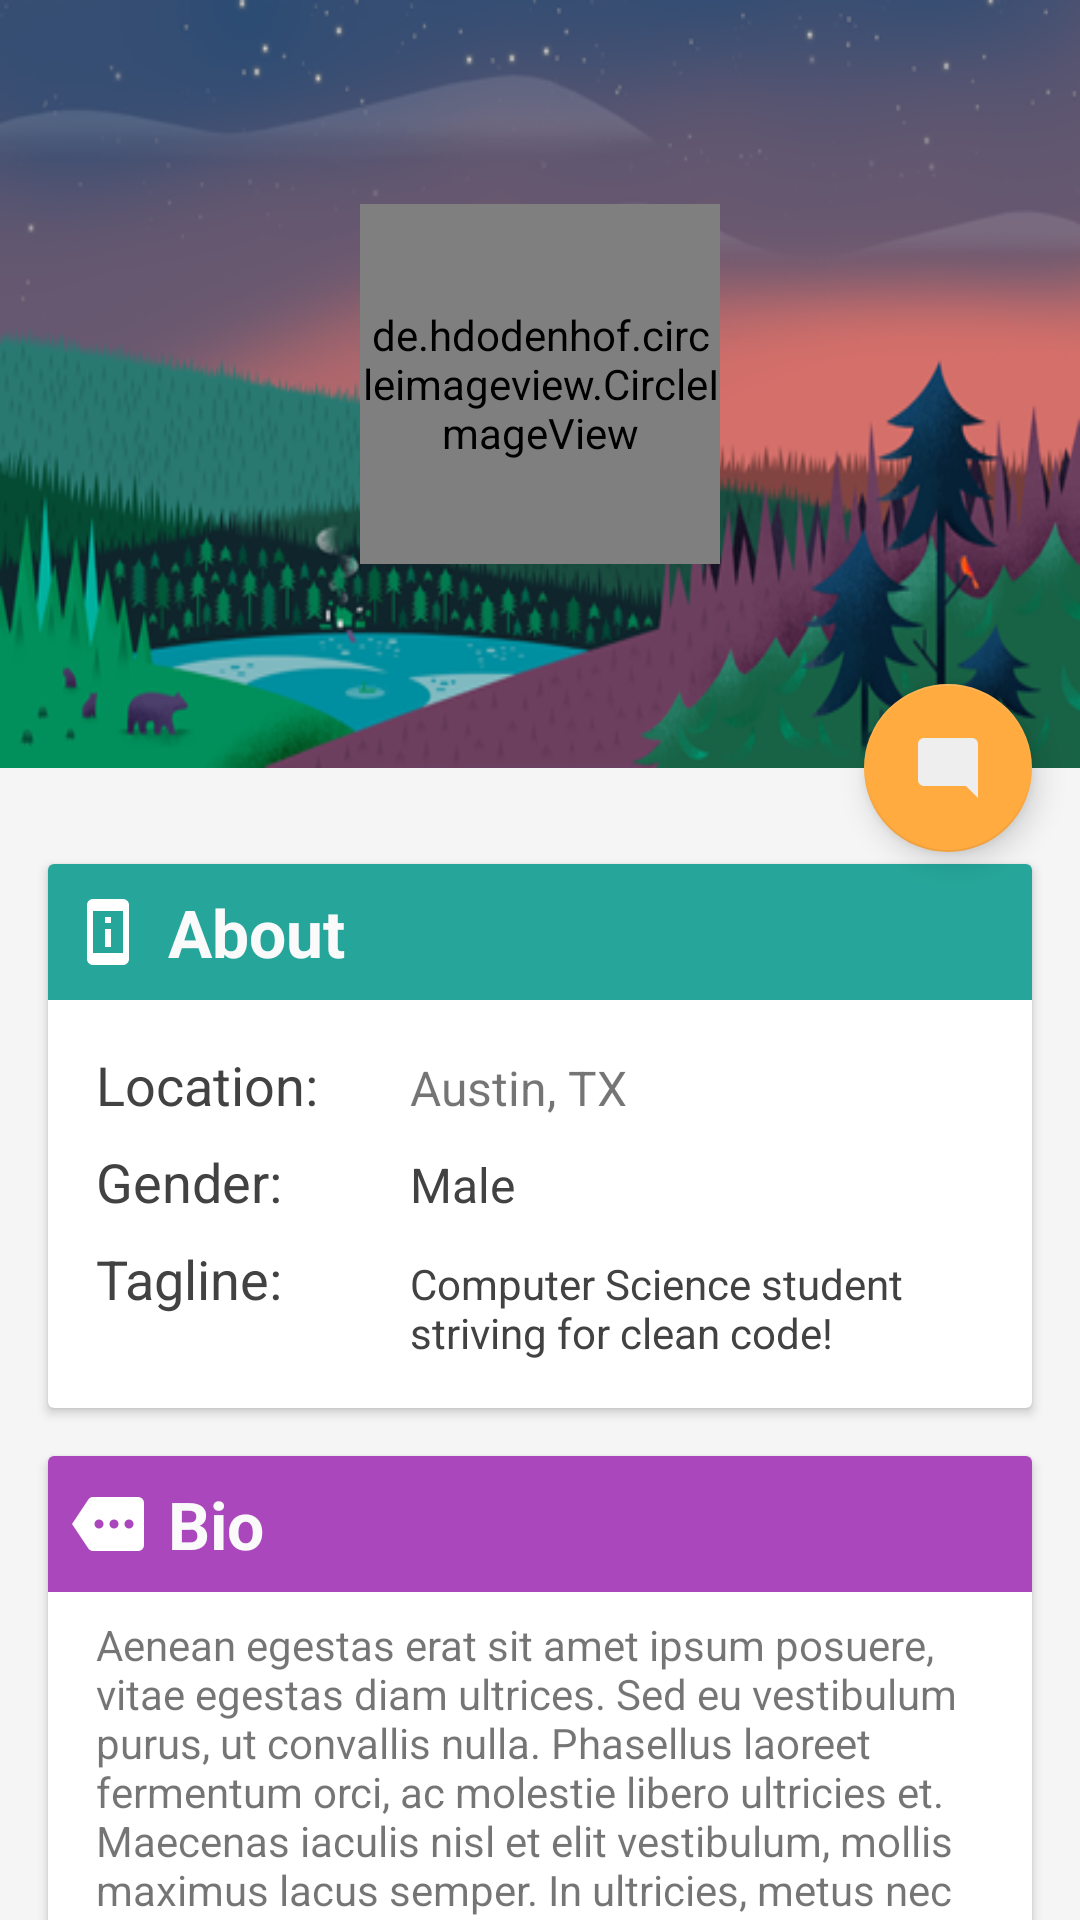

Point at icon controls on the screen. Image size 1080px x 1920px, points as (x=x, y=y).
comments: (x=948, y=768)
